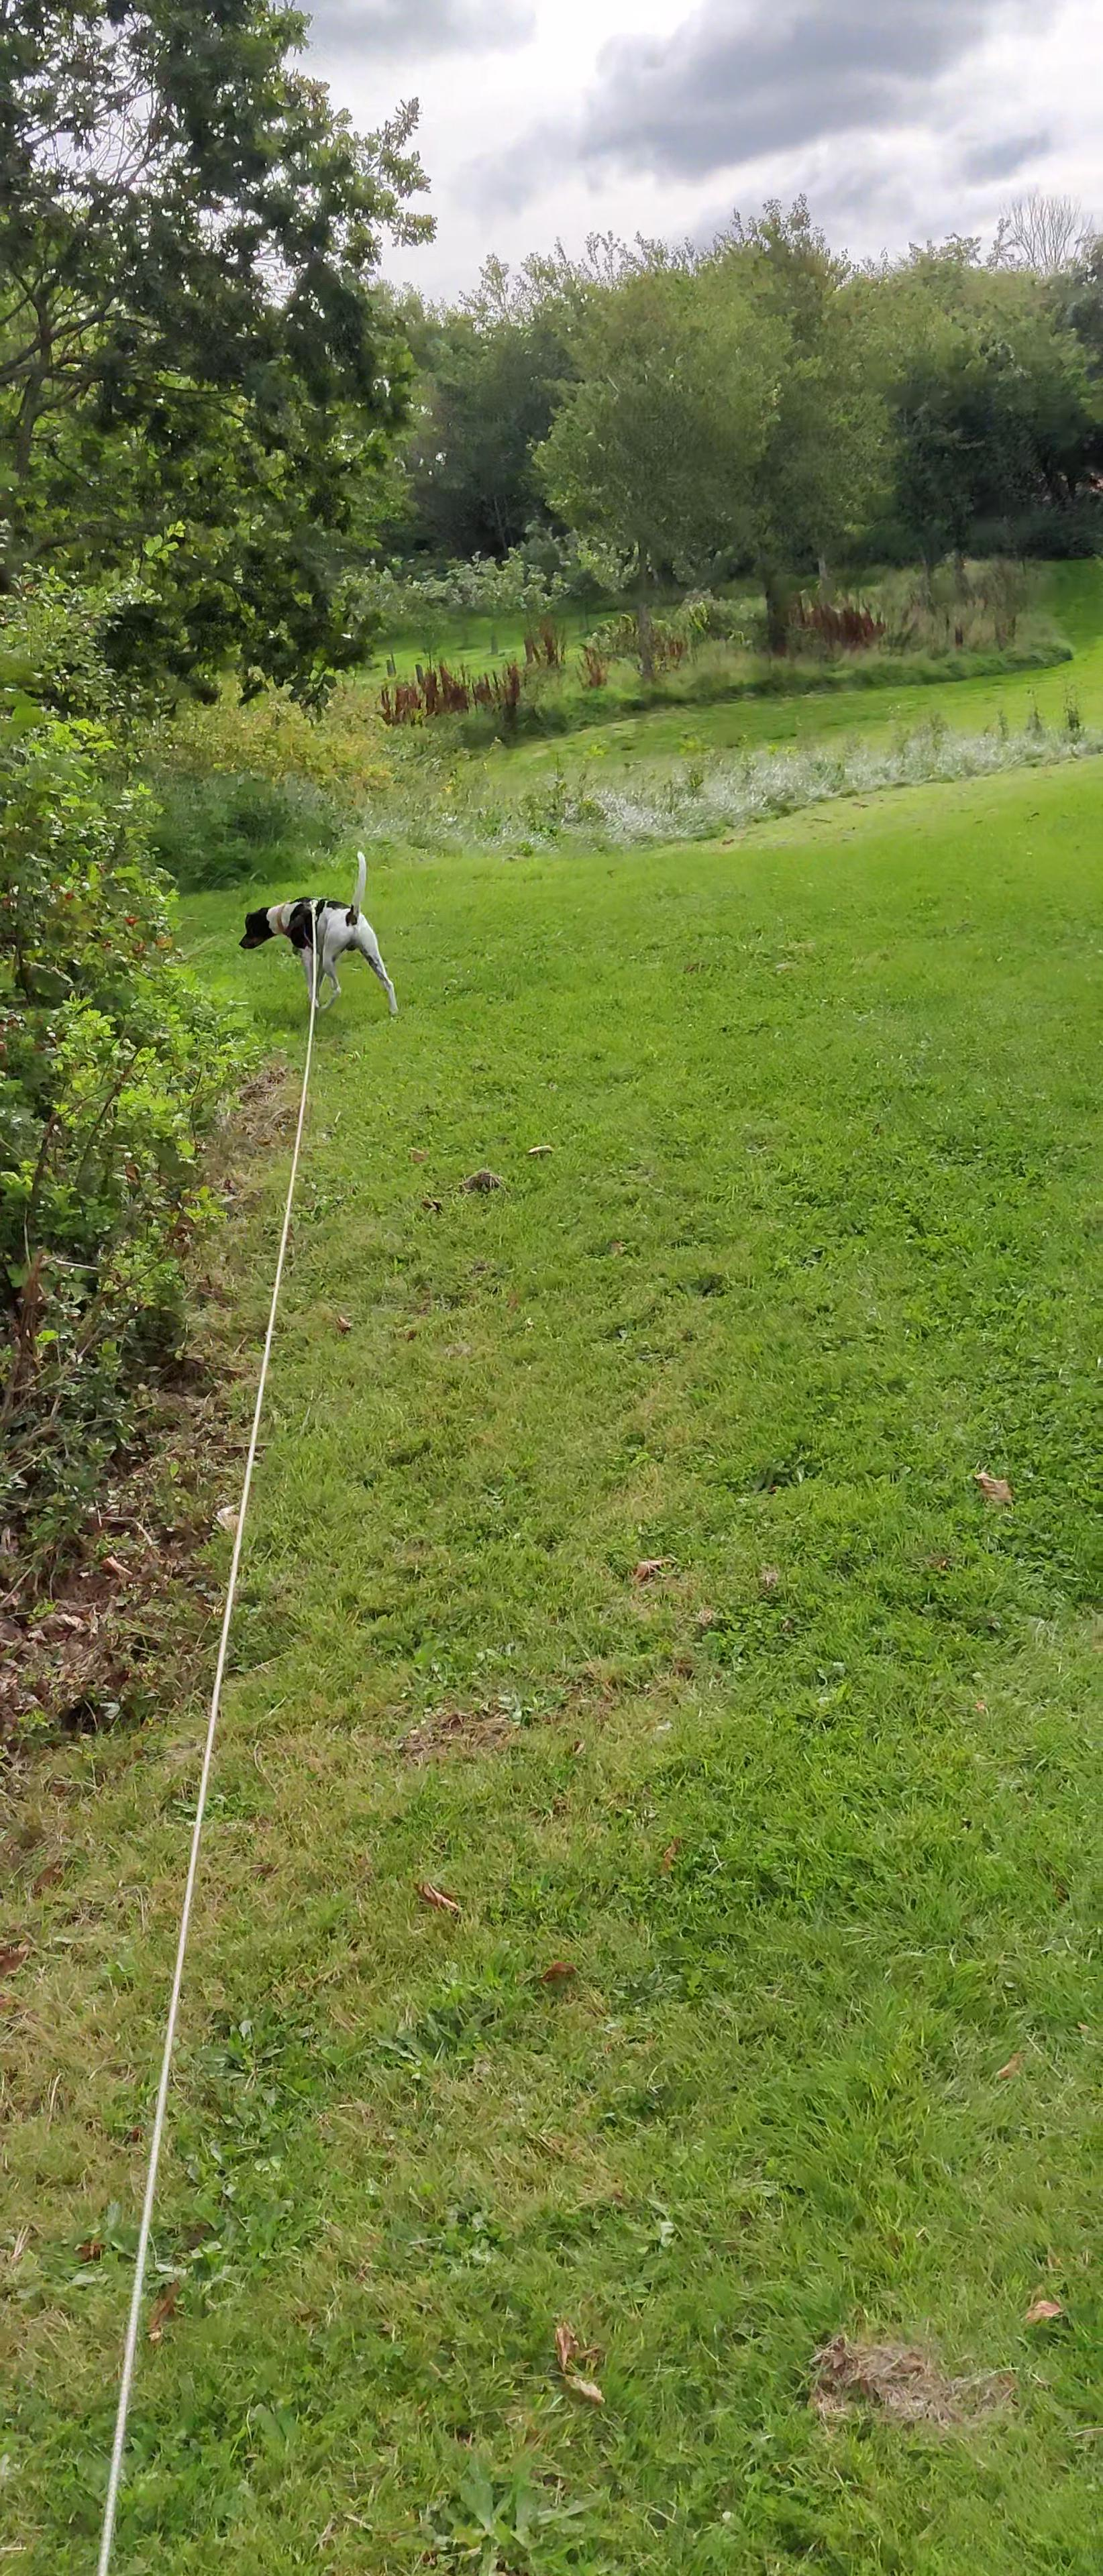Dog: (232, 841, 416, 1020)
